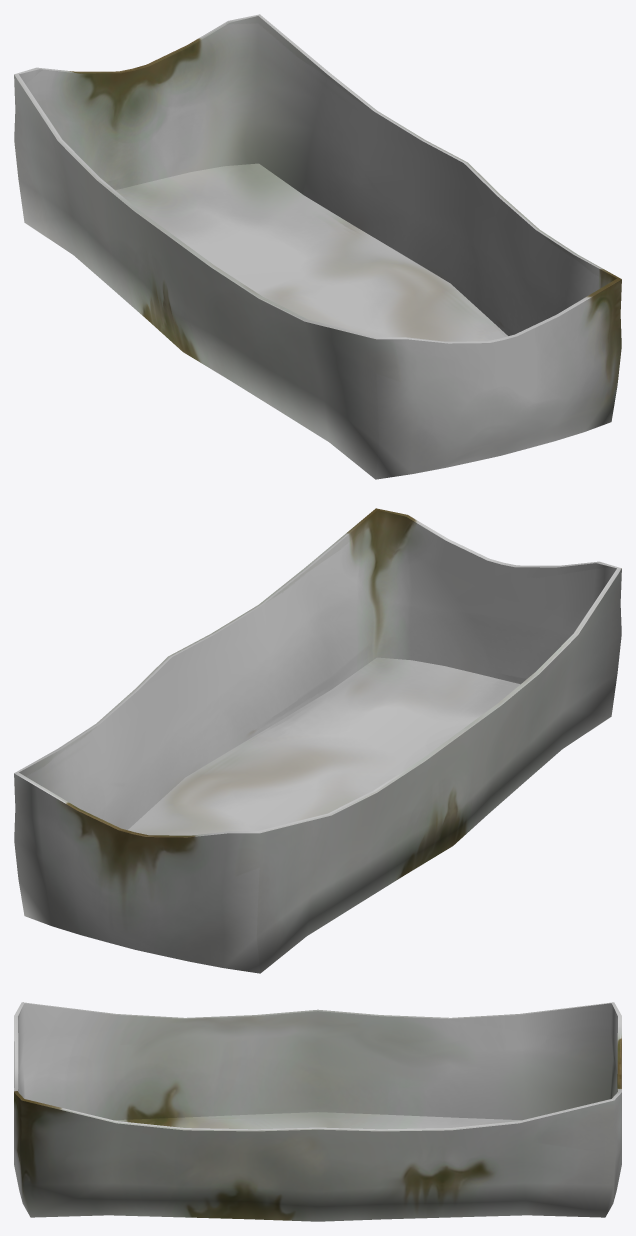
The model's file is Paper_Plate_Brown_Goob_Mold_empty.fbx.
3 renders of one model, top to bottom at view 1: azimuth 30°, elevation 25°; view 2: azimuth 150°, elevation 25°; view 3: azimuth 270°, elevation 25°, orthographic. The views are drawn at different scales.
Parts seen in each view (by area): view 1: Cube; view 2: Cube; view 3: Cube.
Boxes of the visible parts, x1,y1,x2,y2 form: Cube: [14, 14, 621, 479]; Cube: [14, 508, 621, 973]; Cube: [14, 1002, 621, 1221].
Bounding box in the file's own units: 10.5 × 4.92 × 22.5.
1 material, 1 textured.
